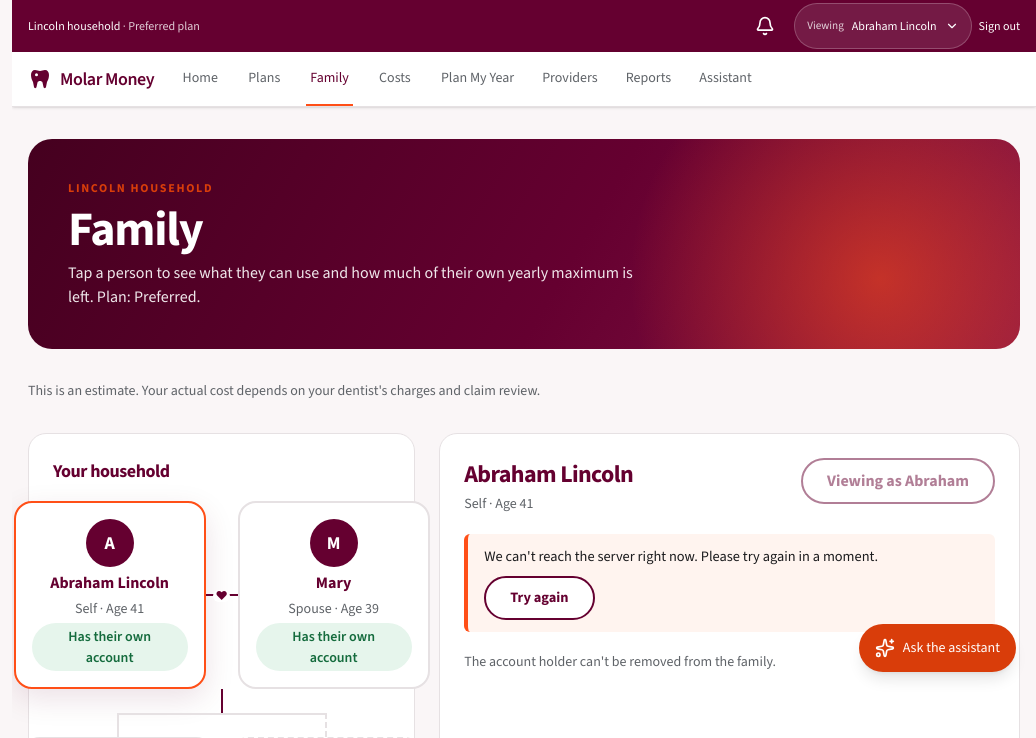
Test: member switching › updates the header label when another member is chosen
This screenshot has width=1036, height=738.
Expected: the text with test id "active-member-label" reads "Abraham Lincoln", [852, 18, 936, 34]
Click the button "Viewing Abraham Lincoln" at (883, 26), box [795, 4, 970, 48]
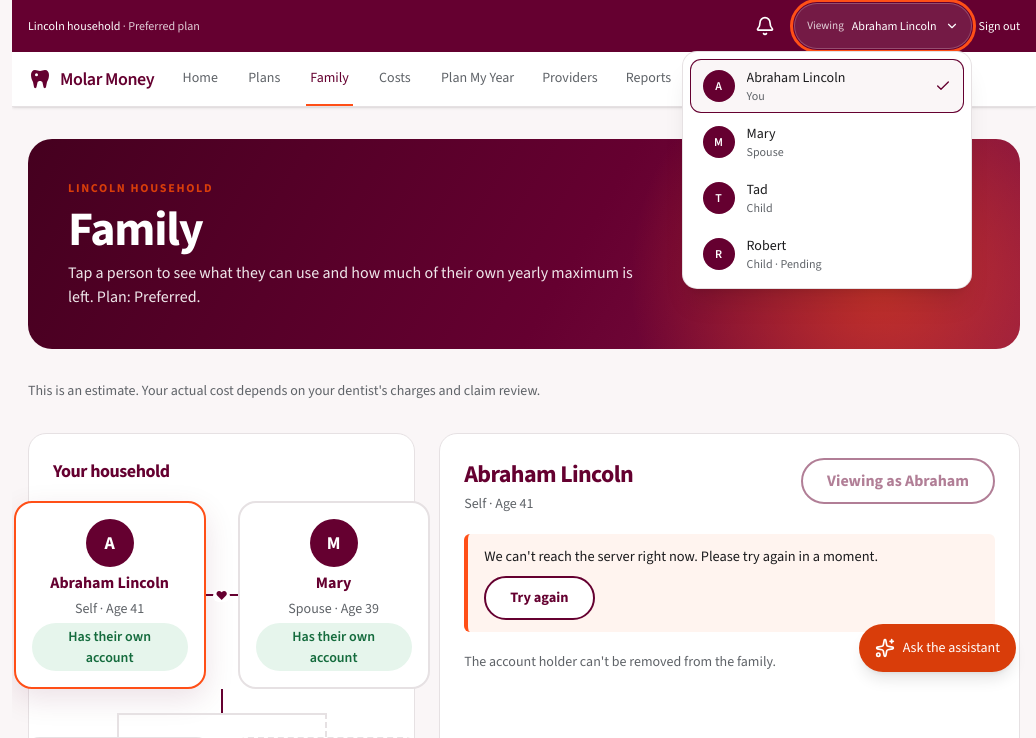
Click the button "M Mary spouse" at (719, 142), box [690, 116, 962, 168]
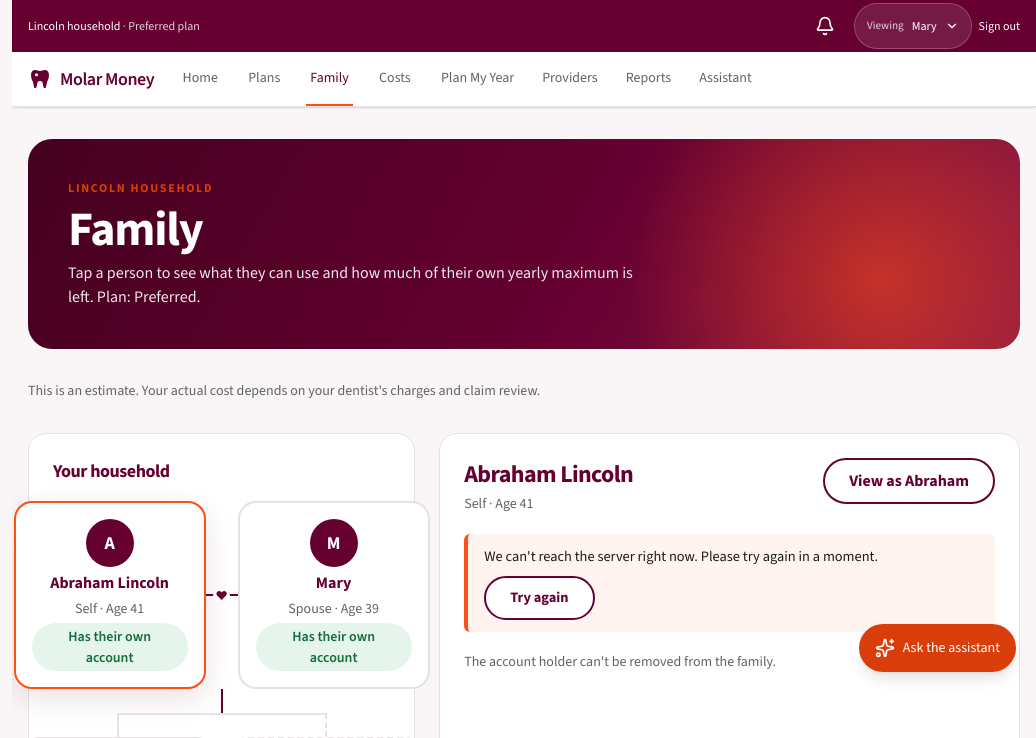
Now the text with test id "active-member-label" reads "Mary", box [912, 18, 936, 34]
